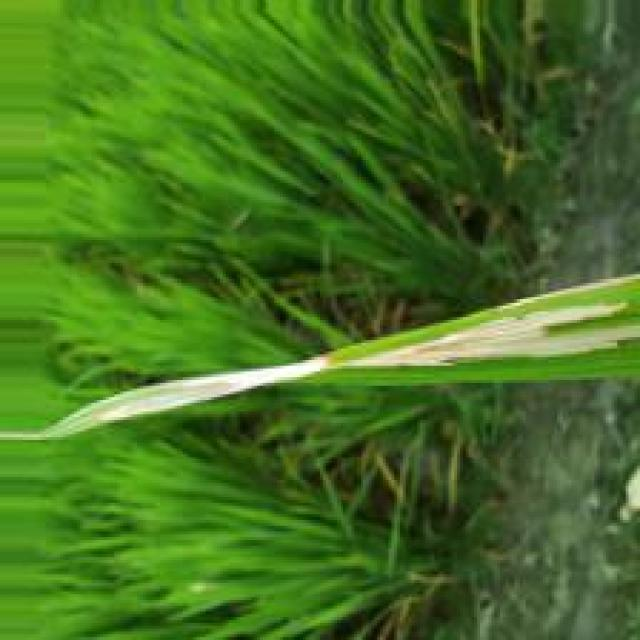Rice_Hispa: (57, 358, 333, 439), (336, 295, 640, 367)
